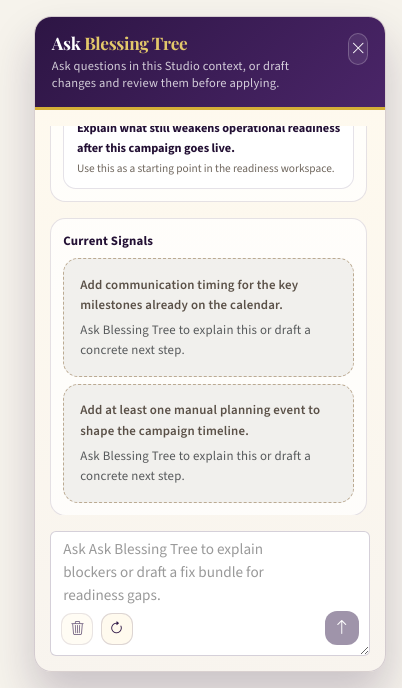
CampaignStudioAiRail › keeps explanatory unblock prompts in Ask Blessing Tree
This screenshot has width=402, height=688.
(page scrolled)
Type "Tell me what I need to do to unblock readiness." into the text box with placeholder "ask blessing tree to explain blockers or draft a fix bundle for readiness gaps". click: (210, 594)
box: [50,532,370,656]
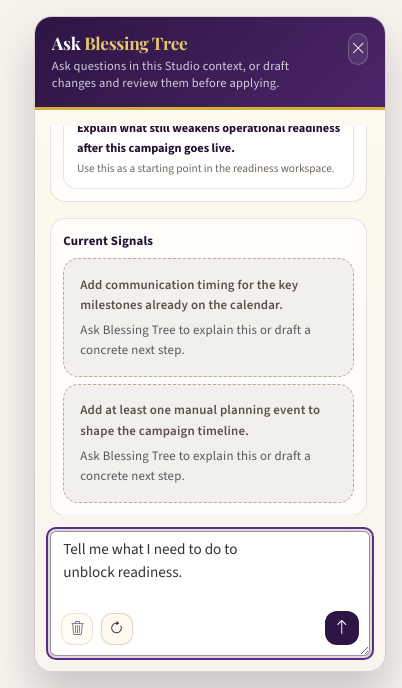
Click the button named "send ai prompt". click: click(342, 628)
box: [325,611,359,645]
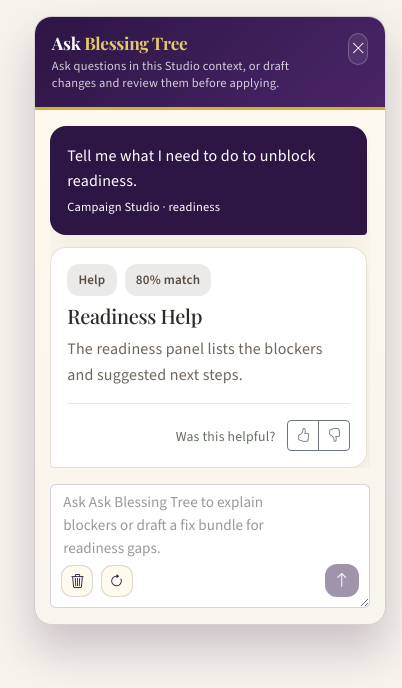
Expected: the text "The readiness panel lists the blockers" is shown, [67,338,323,385]
